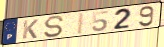2: (113, 7, 134, 32)
5: (91, 10, 110, 32)
9: (139, 5, 155, 27)
I: (75, 12, 86, 36)
K: (21, 18, 40, 40)
S: (43, 15, 66, 38)
